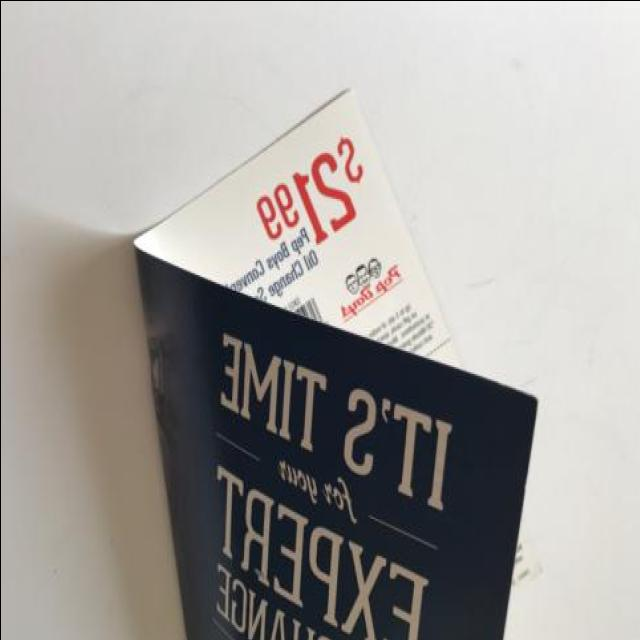kertas: (132, 86, 543, 640)
